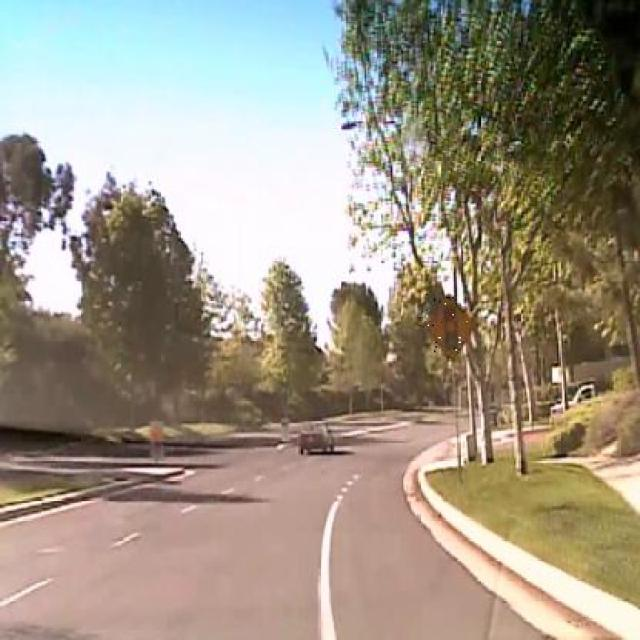signalAhead: (426, 295, 476, 363)
